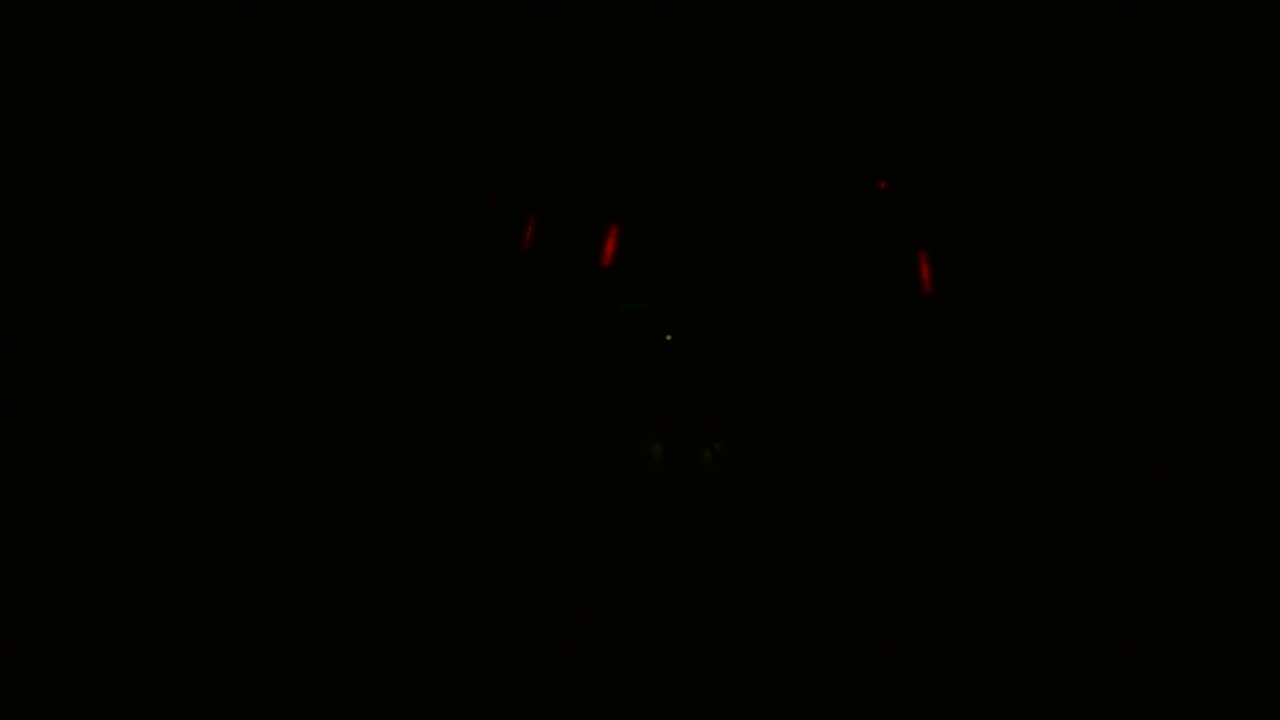pair1: (524, 220, 626, 269)
